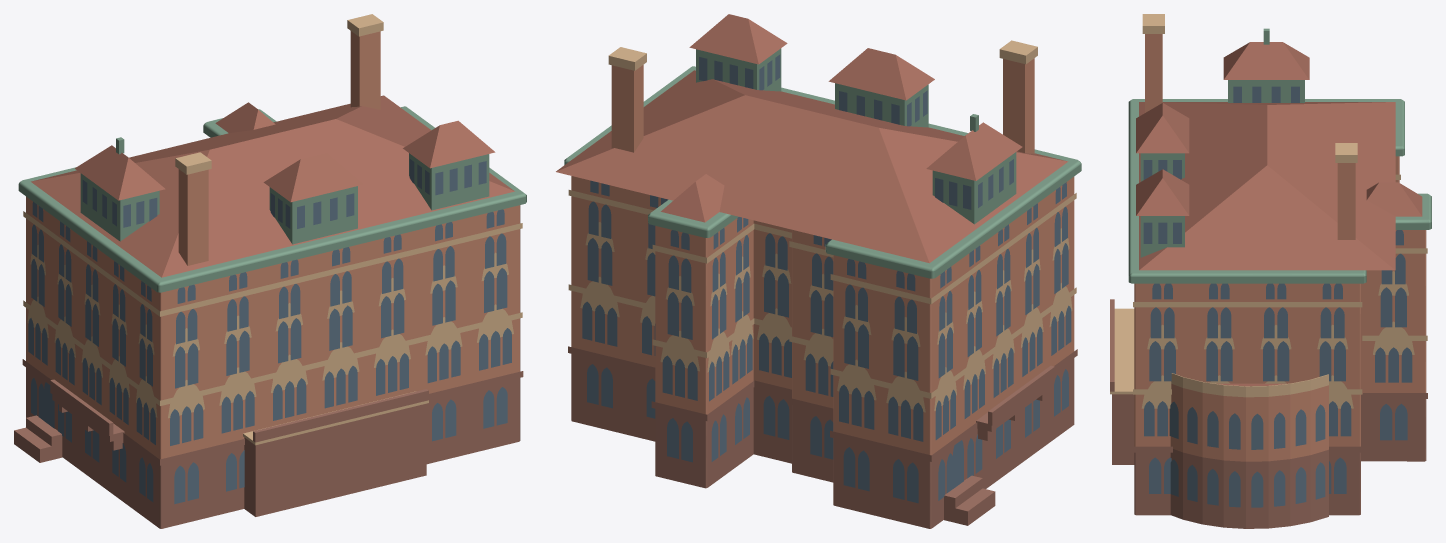
Rendered from nyc-montauk-club.glb.
3 views of the same model, side by side, from view 1: azimuth 30°, elevation 25°; view 2: azimuth 150°, elevation 25°; view 3: azimuth 270°, elevation 25° (orthographic). The views are drawn at different scales.
Parts seen in each view (by area): view 1: Montauk Club; view 2: Montauk Club; view 3: Montauk Club.
Part boxes in pixels (x1,y1,x2,y2): Montauk Club: (14, 14, 526, 528); Montauk Club: (556, 14, 1081, 528); Montauk Club: (1110, 14, 1431, 528).
Bounding box in the file's own units: 31.38 × 25.6 × 21.7.
